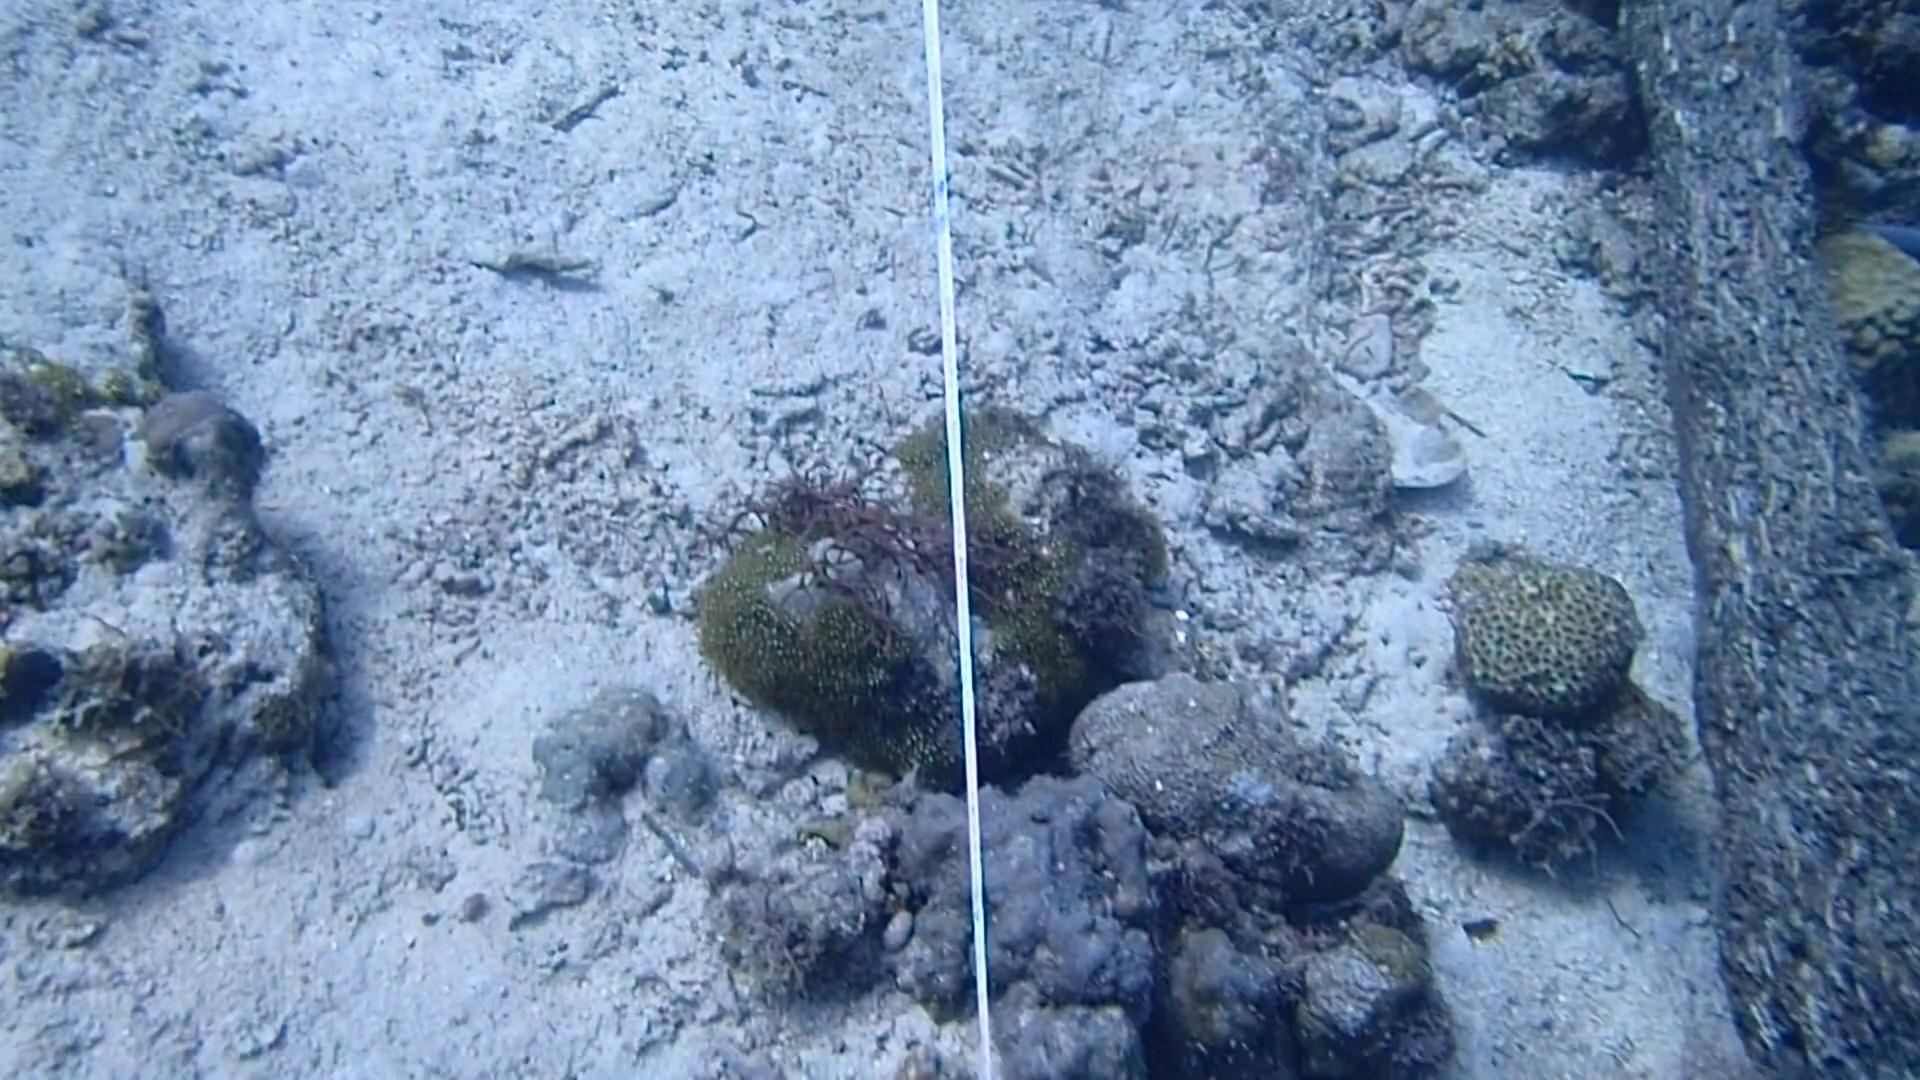UI: (1452, 905, 1511, 953)
